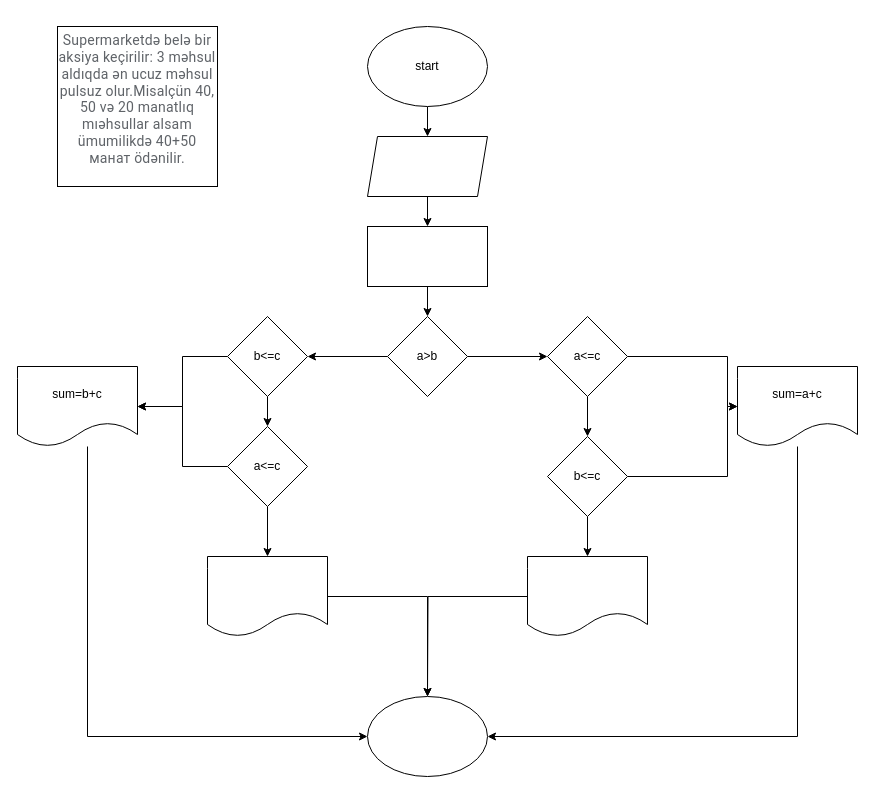
This 875x794 diagram has some shape labels left out. Each missing label, with the centre of its shape:
"a,b,c" belongs at pixel 427 166.
"end" belongs at pixel 427 736.
"sum=0" belongs at pixel 427 256.
"sum=a+b" belongs at pixel 587 596.
"sum=b+a" belongs at pixel 267 596.
